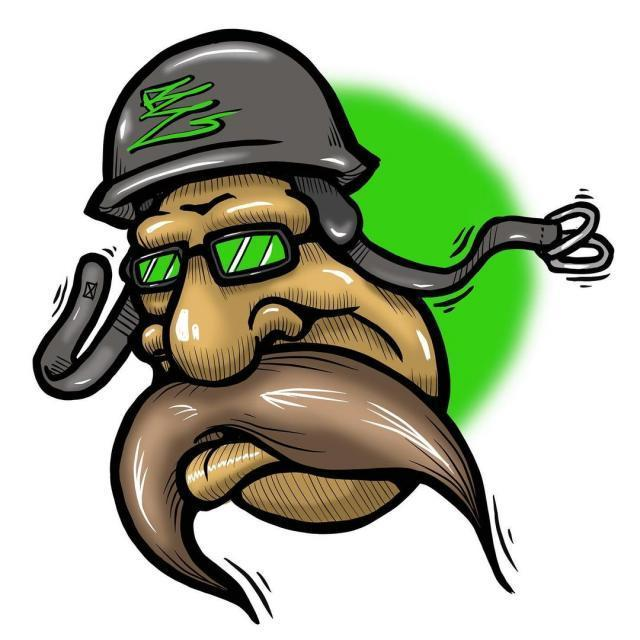-: (28, 21, 617, 627)
